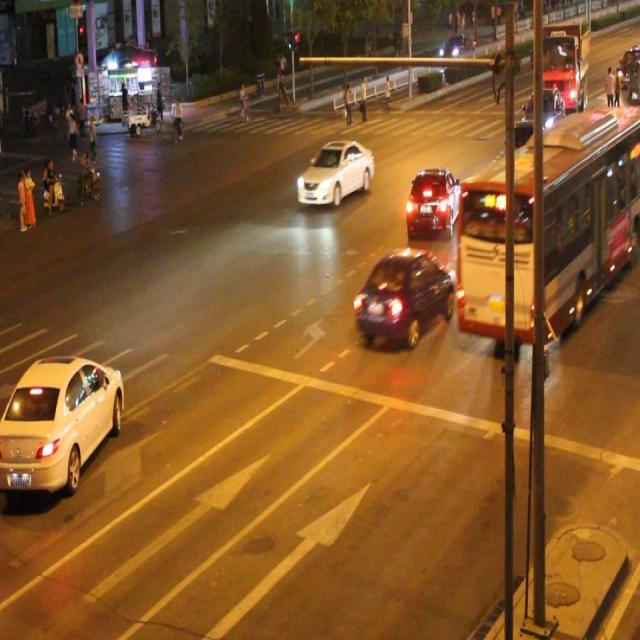car: (1, 353, 123, 493), (354, 249, 453, 342), (297, 137, 374, 207), (404, 168, 463, 239), (506, 120, 547, 184)
van: (457, 111, 640, 332)
